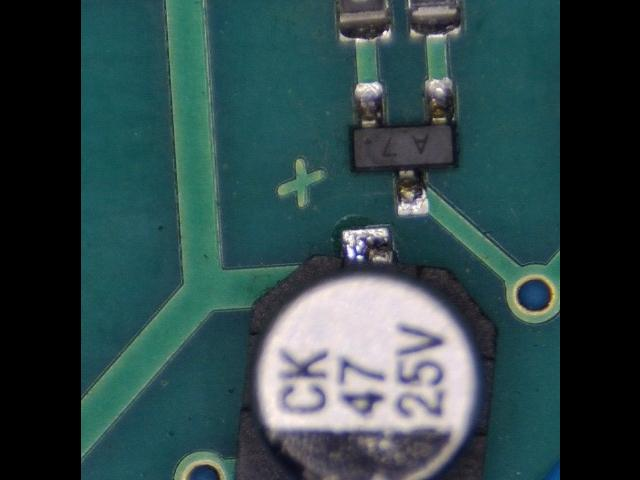Incorrect_installation: (234, 228, 497, 480)
